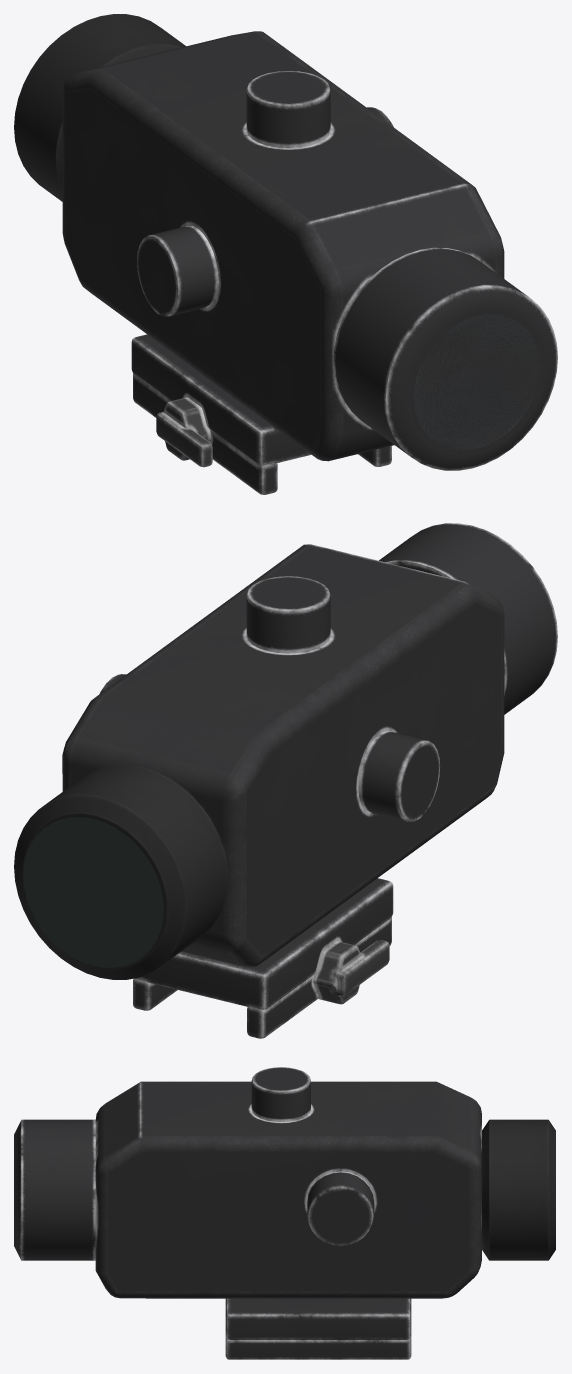
File: prism3x.glb
3 renders of one model, top to bottom at view 1: azimuth 30°, elevation 25°; view 2: azimuth 150°, elevation 25°; view 3: azimuth 270°, elevation 25°, orthographic. The views are drawn at different scales.
Parts seen in each view (by area): view 1: body, lens_front; view 2: body, lens_pip; view 3: body.
Boxes of the visible parts, <box> form: body: <box>14,14,557,494</box>; lens_front: <box>414,314,537,449</box>; body: <box>14,523,557,1038</box>; lens_pip: <box>23,817,163,967</box>; body: <box>14,1067,555,1359</box>.
Size of the model in its own units: 0.059 by 0.0772 by 0.1465.
Materials: 3 (1 with a texture image).
